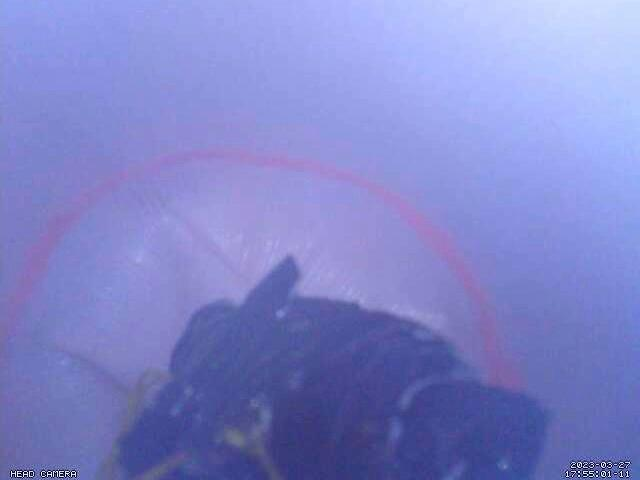head: (0, 148, 525, 392)
